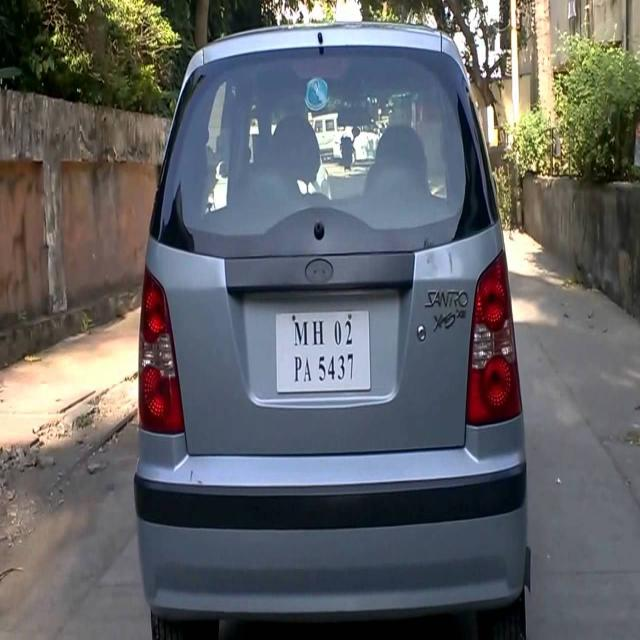Number-Plate: (276, 316, 368, 390)
